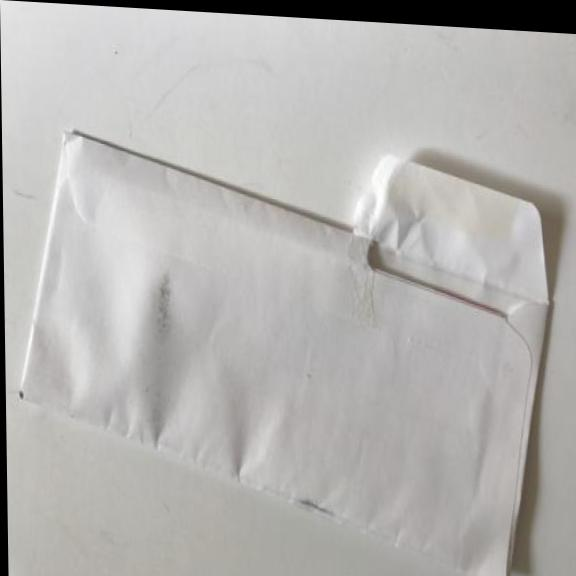Kertas: (8, 115, 560, 576)
